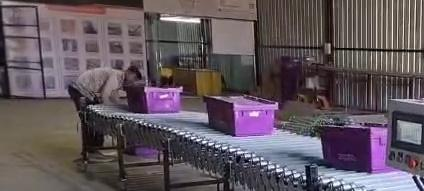box: (320, 125, 391, 172), (204, 95, 277, 136), (124, 86, 182, 114)
